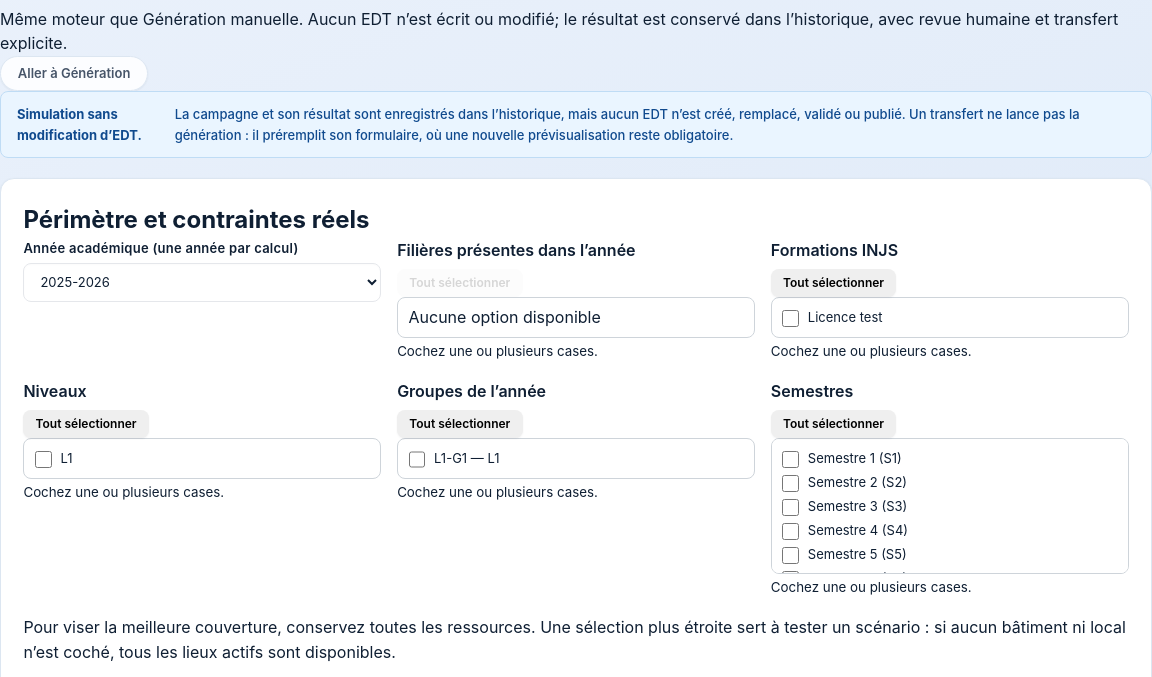
GET INJS — simulation non destructive › ne lance pas par défaut une seule semaine ou un quota implicite
The image size is (1152, 677).
What coordinates should you click on to do the following:
click the checkbox labelled "Licence test"
I would click on:
 (791, 319)
Its box is [782, 310, 799, 327].
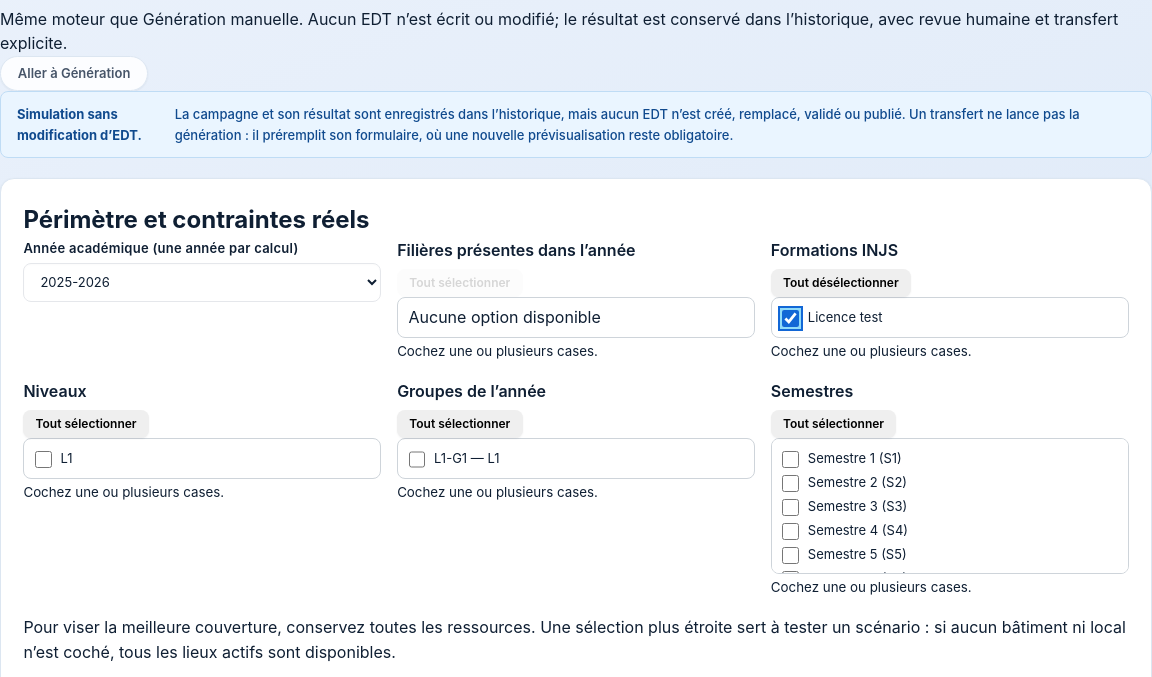
What coordinates should you click on to do the following:
click the checkbox labelled "L1"
I would click on:
 (43, 460)
Its box is [35, 451, 52, 468].
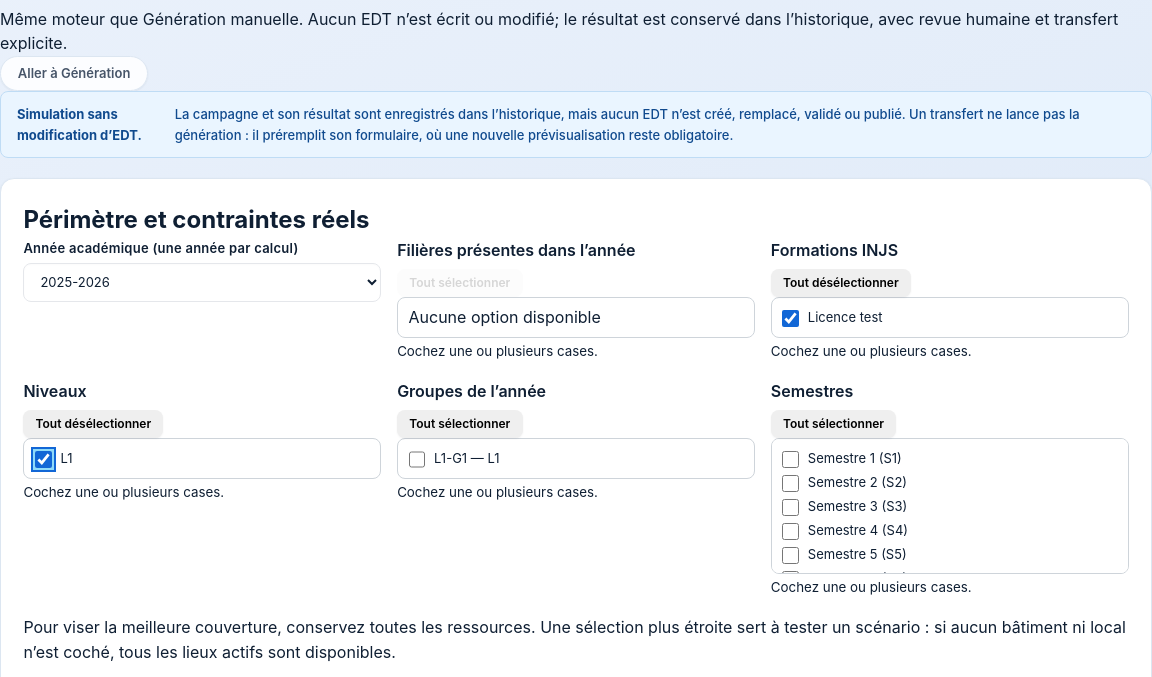
What coordinates should you click on to do the following:
click the checkbox labelled "L1-G1 — L1"
I would click on:
 (417, 460)
Its box is [408, 451, 425, 468].
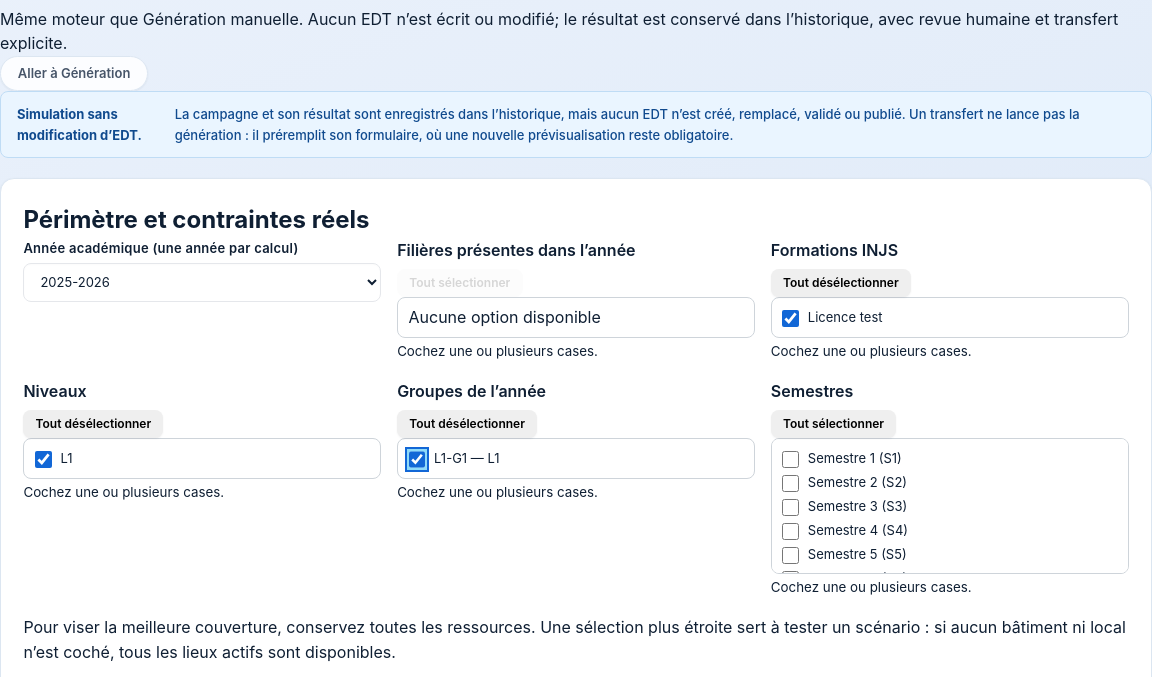
What coordinates should you click on to do the following:
click the checkbox labelled "Semestre 1 (S1)"
I would click on:
 (791, 460)
Its box is [782, 451, 799, 468].
(page scrolled)
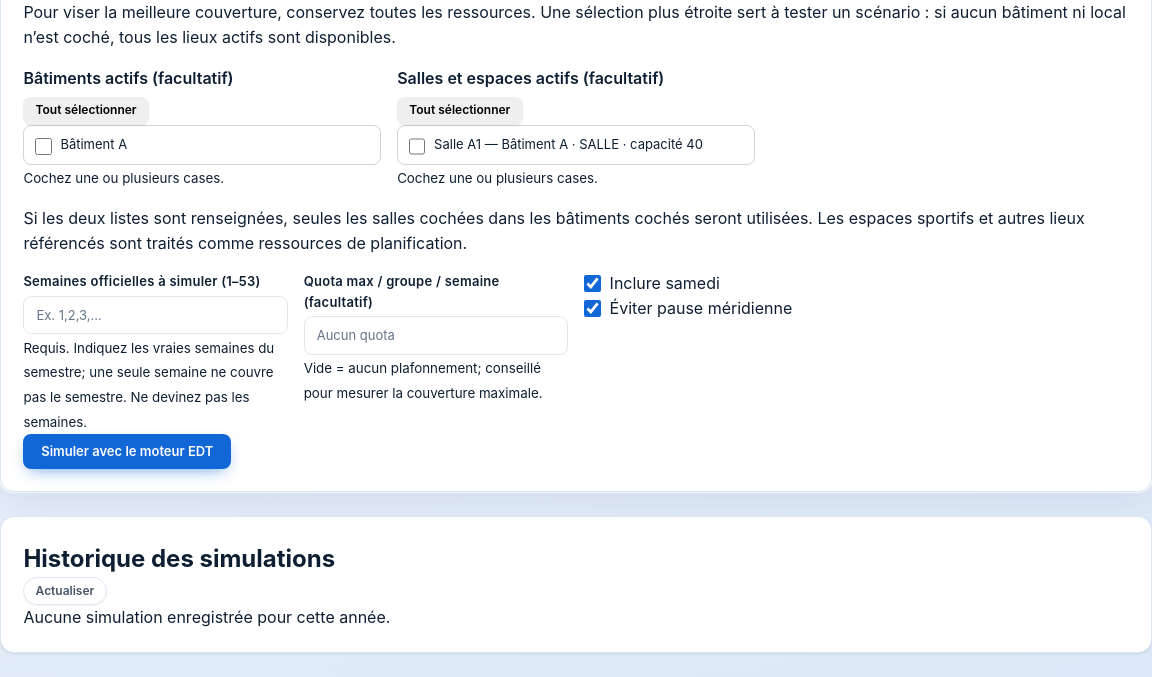
What coordinates should you click on to do the following:
click the button "Simuler avec le moteur EDT"
I would click on:
 (127, 452)
Its box is [23, 434, 231, 469].
(page scrolled)
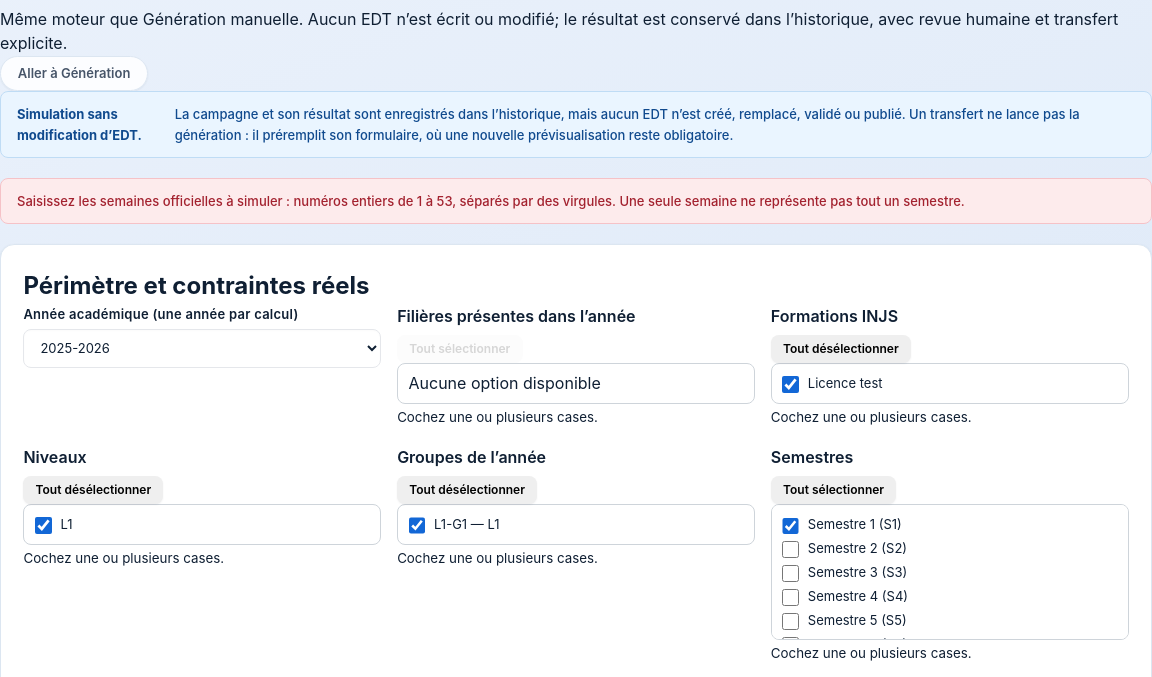
Expected: the message shows "semaines officielles à simuler", [17, 193, 965, 209]
